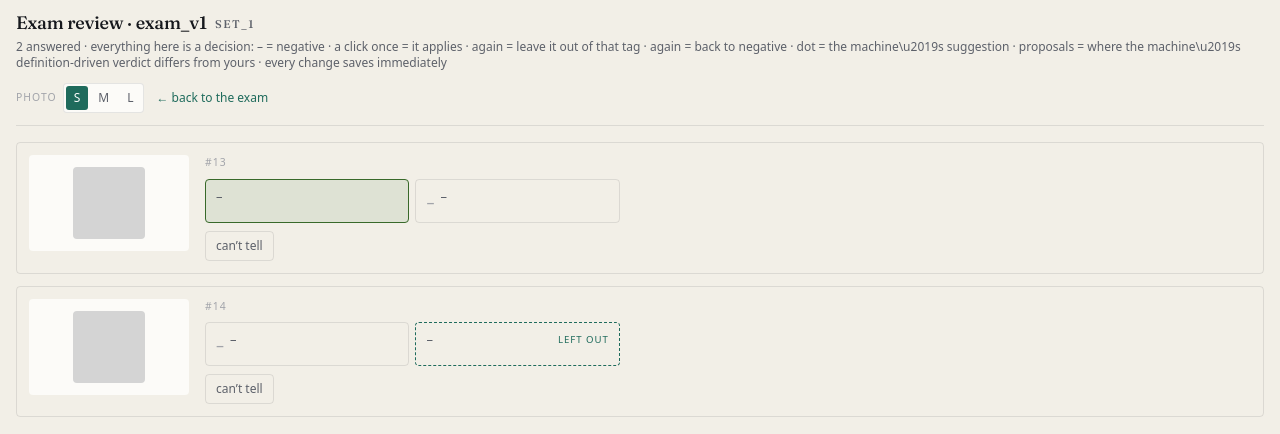
it: <NewDedupExamReview> › a click re-answers the WHOLE image through the exam endpoint
This screenshot has width=1280, height=434.
expect the text "2 answered" is shown: met, box [16, 39, 1264, 71]
Click the button named "interier - koupelna".
click(307, 201)  # box [205, 179, 409, 223]
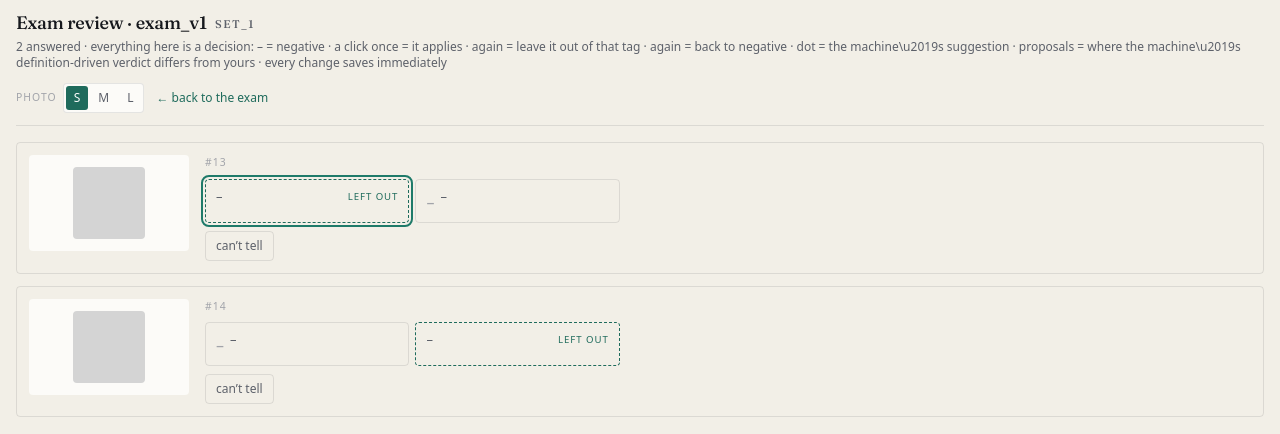
expect the text "left out" is shown 2 times: met, box [348, 190, 398, 204]; [558, 333, 609, 348]
